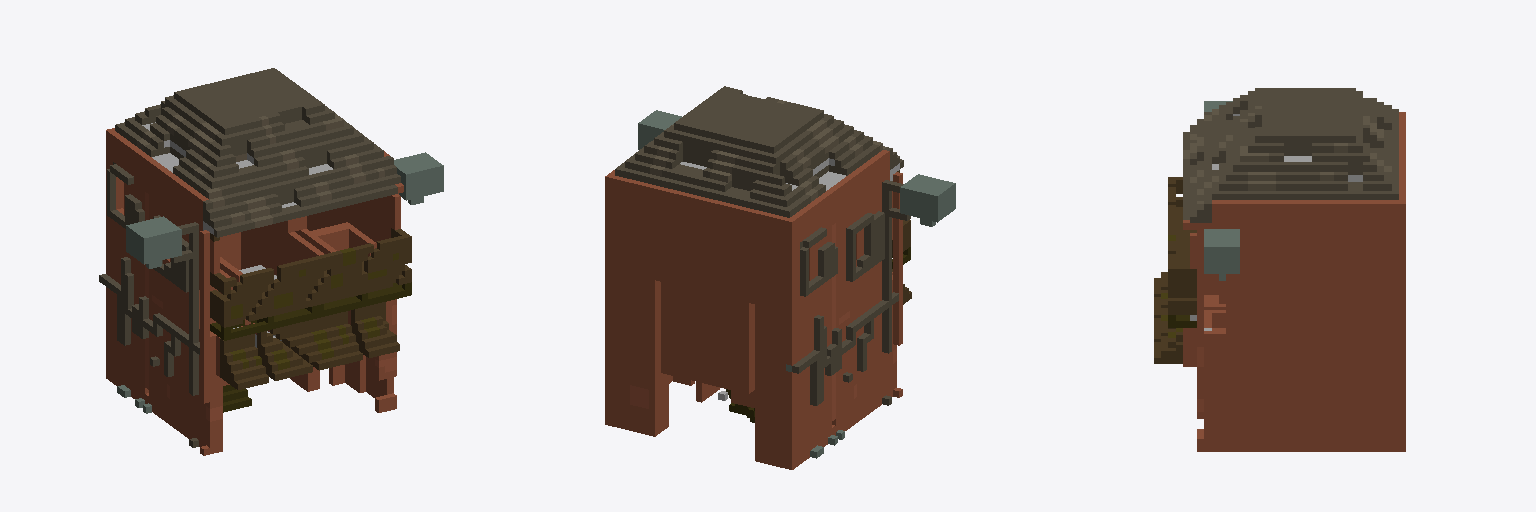
3 renders of one model, left to right at view 1: azimuth 30°, elevation 25°; view 2: azimuth 150°, elevation 25°; view 3: azimuth 270°, elevation 25°, orthographic.
Parts seen in each view (by area): view 1: object 1; view 2: object 1; view 3: object 1.
Part boxes in pixels (x1,y1,x2,y2): object 1: (99,68,443,455); object 1: (605,86,955,469); object 1: (1154,88,1405,451).
Size of the model in its own units: 4.8 by 4.5 by 3.5.
1 materials, 1 textured.